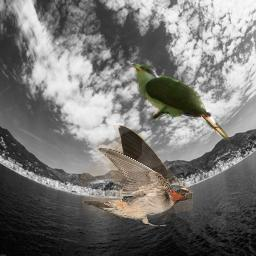Cuckoo: (129, 63, 231, 141)
Swallow: (81, 125, 193, 227)
